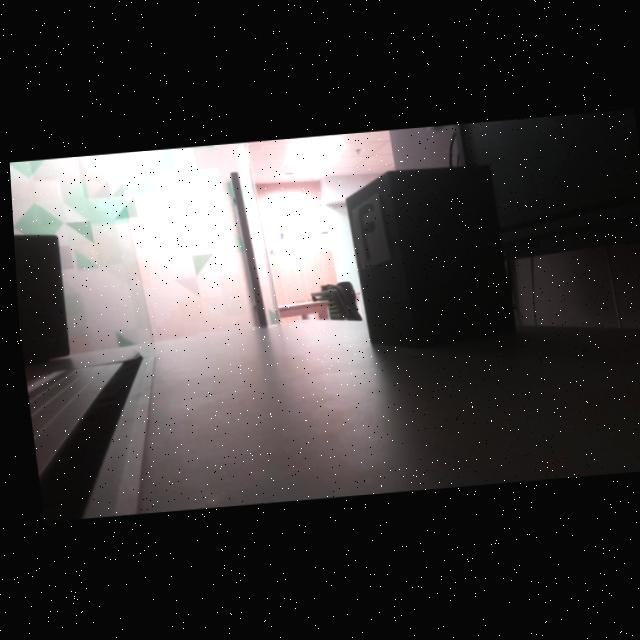F: (356, 205, 373, 261)
